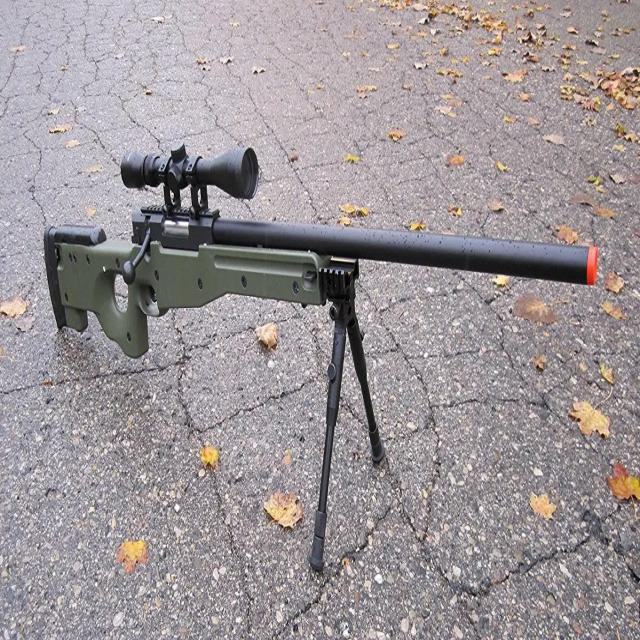gun: (45, 140, 597, 571)
